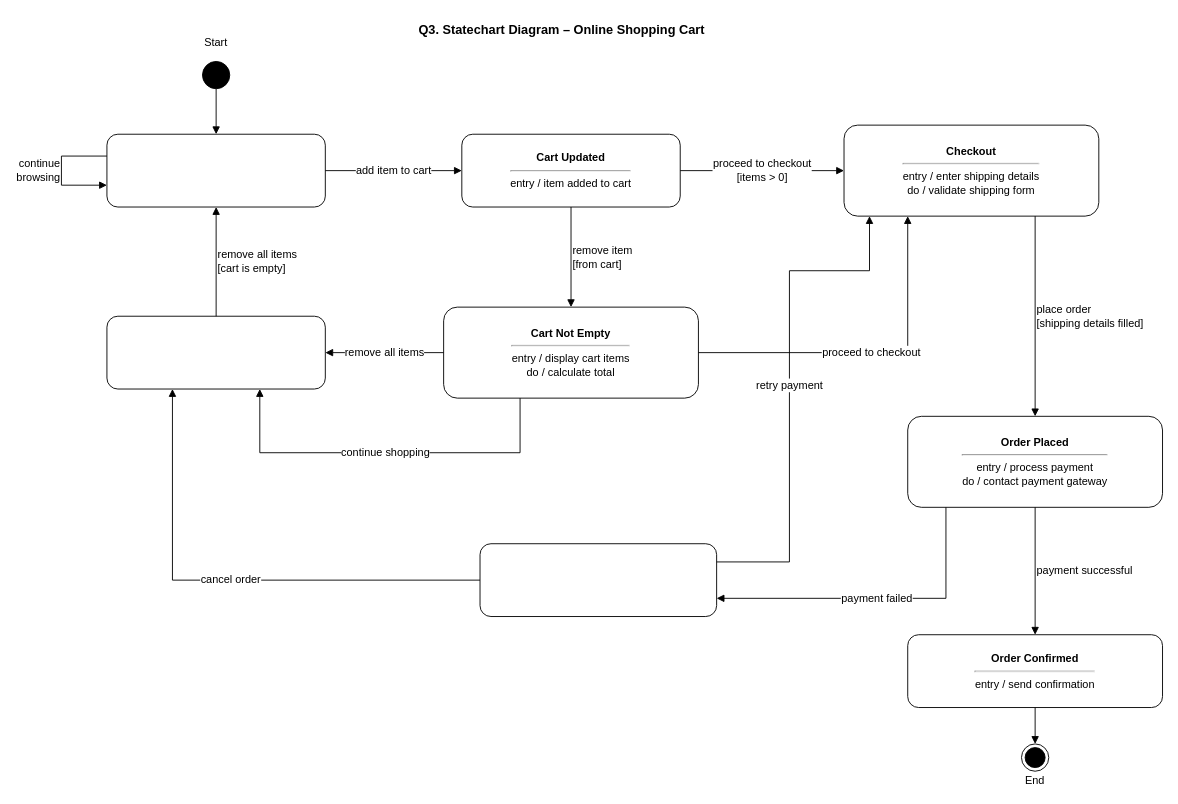
The diagram is 1178 pixels wide and 804 high, and some of its shapes have lost their labels. The centre of each missing label's shape, as x and y in pixels:
"Browsing Products entry / view products" goes at pixel 215 170.
"Cart Empty entry / cart is empty" goes at pixel 215 352.
"Payment Failed entry / show error message" goes at pixel 598 580.
